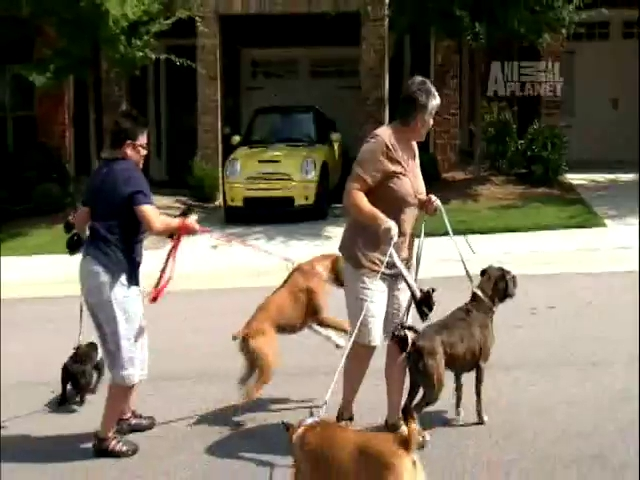person: (74, 116, 199, 457), (340, 75, 440, 448)
